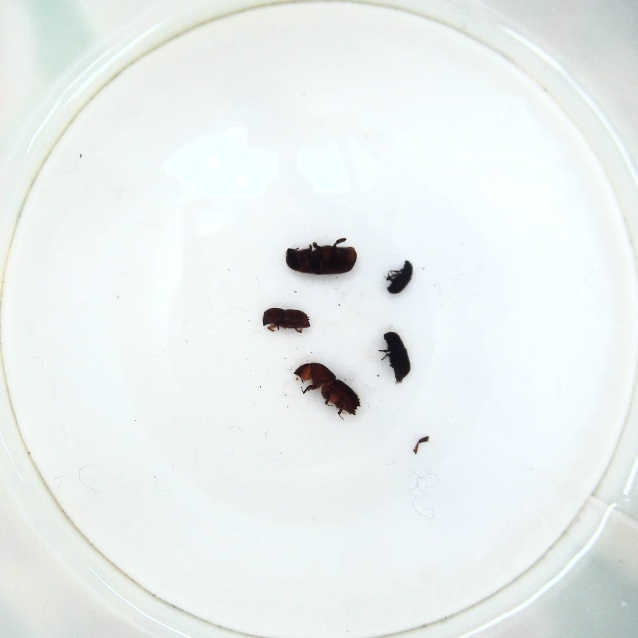armandi: (374, 329, 414, 385)
boerner: (294, 361, 364, 421)
coleoptera: (381, 256, 415, 298)
leconte: (284, 234, 358, 279)
linnaeus: (259, 305, 314, 337)
